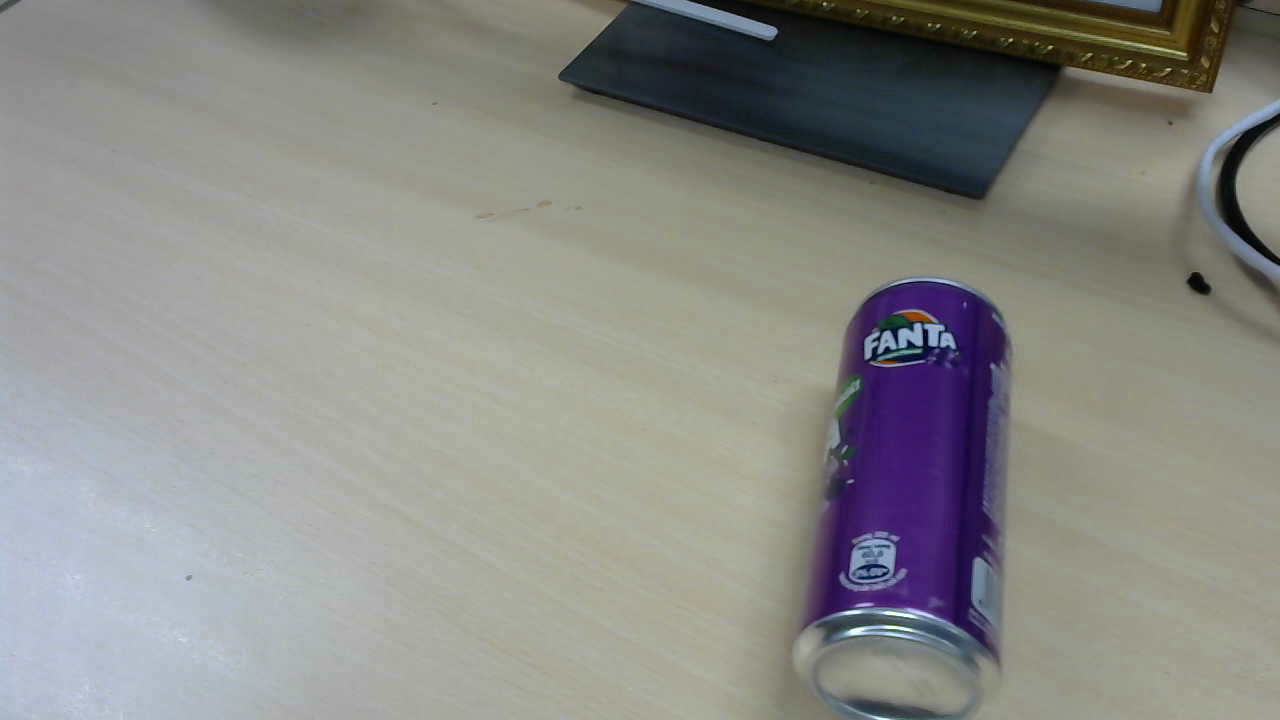Fanta: (797, 281, 1022, 697)
